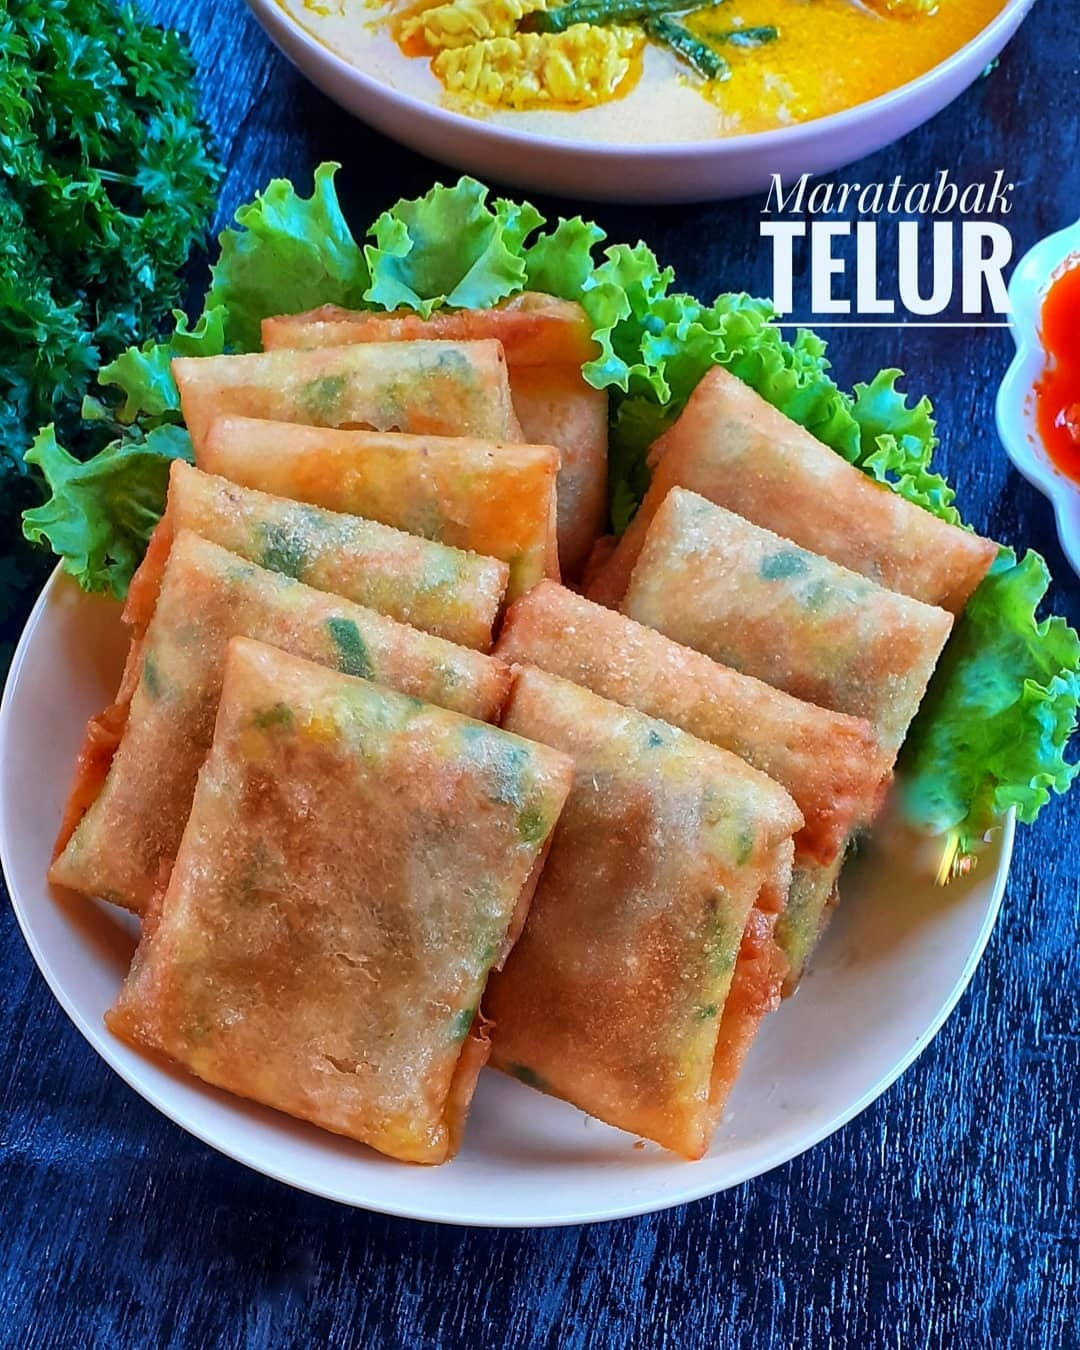martabak: (32, 300, 1004, 1166)
